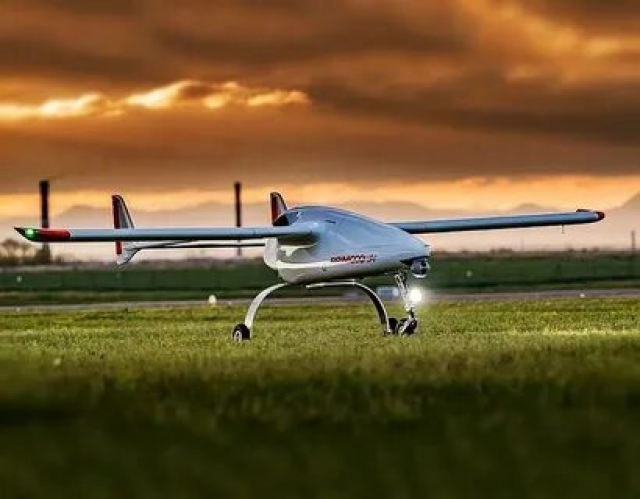military drone: (13, 191, 605, 342)
